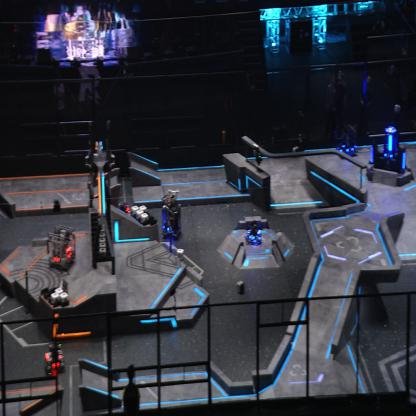car: (46, 222, 76, 266), (161, 192, 182, 239), (41, 342, 66, 376), (336, 124, 357, 157), (115, 200, 135, 229), (244, 220, 262, 246)
